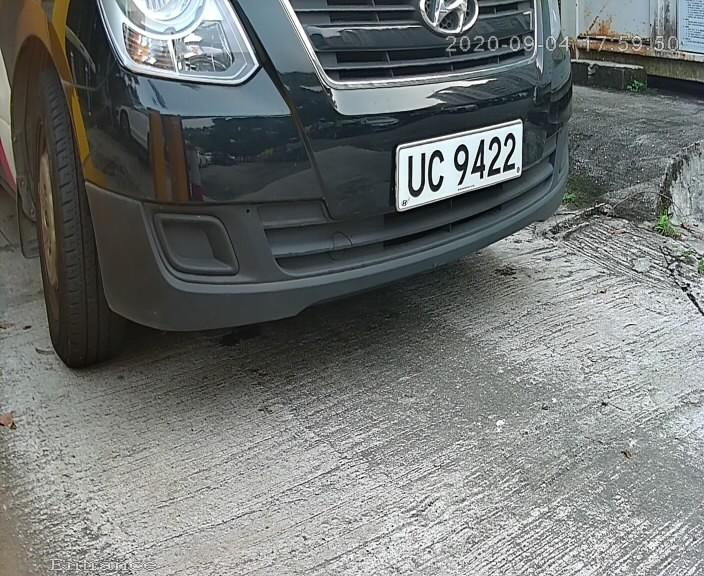License Plate: (387, 114, 535, 222)
